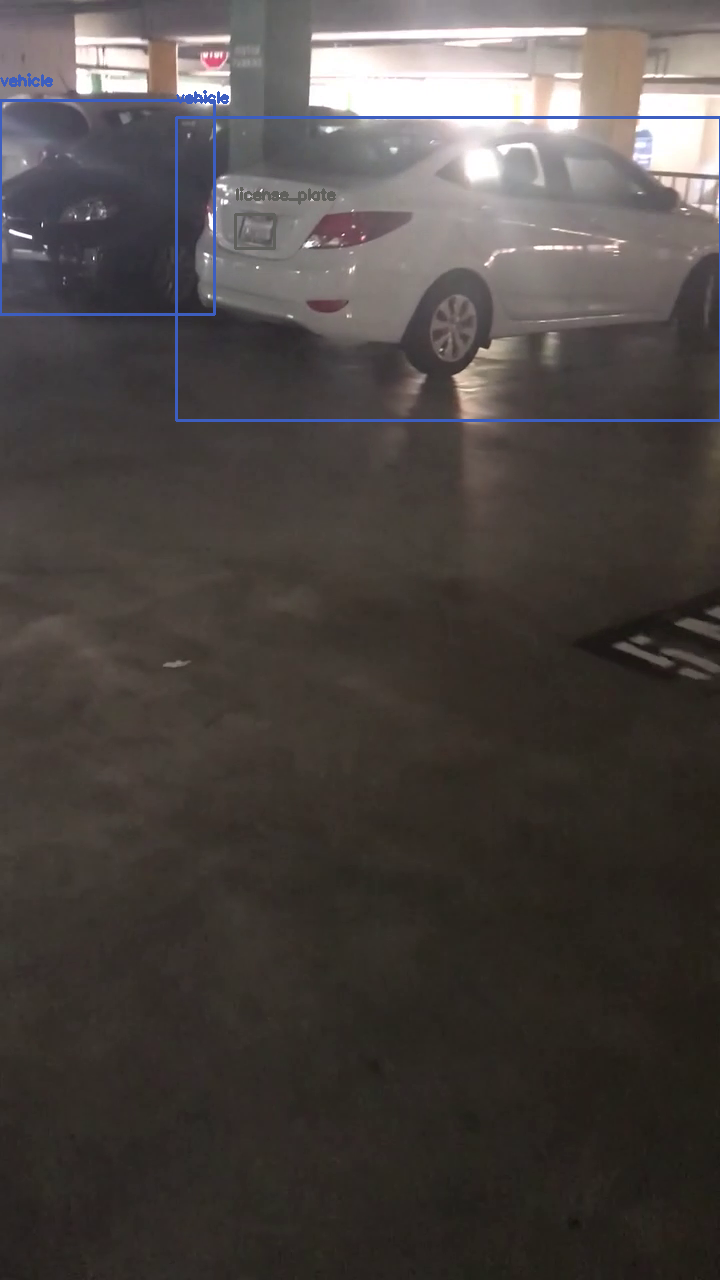license_plate: (235, 214, 274, 248)
vehicle: (176, 117, 720, 420), (0, 100, 214, 314)
